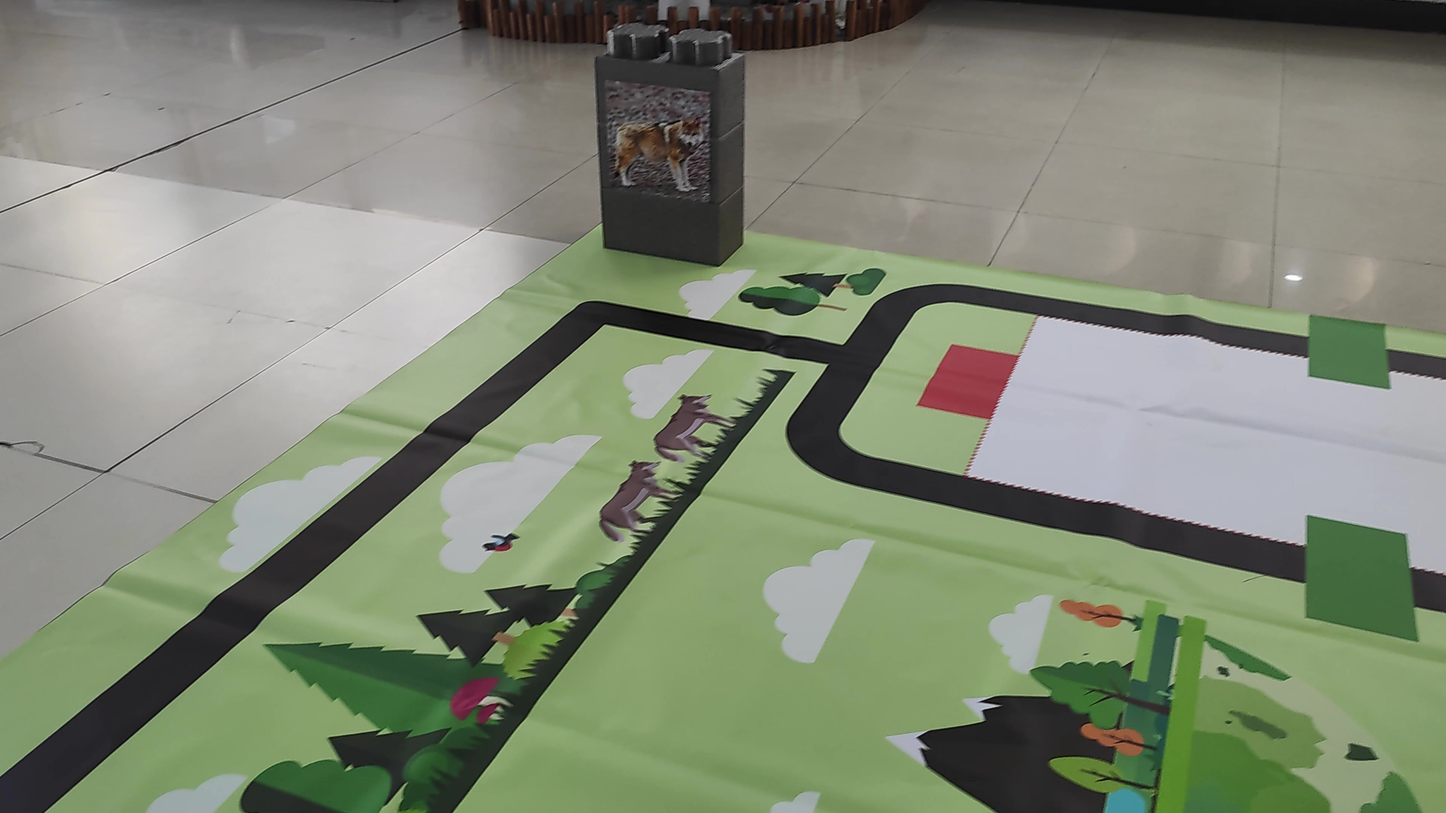wolf: (601, 84, 709, 204)
